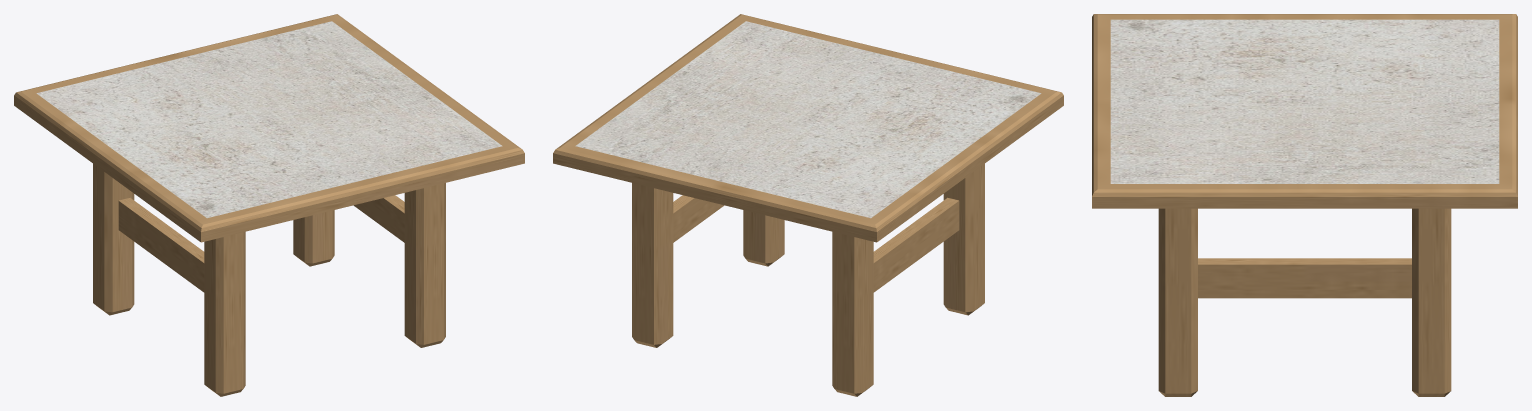
File: tablesquare.glb
3 views of the same model, side by side, from view 1: azimuth 30°, elevation 25°; view 2: azimuth 150°, elevation 25°; view 3: azimuth 270°, elevation 25° (orthographic). The views are drawn at different scales.
Visible parts, largest first — view 1: TABLEMAIN; view 2: TABLEMAIN; view 3: TABLEMAIN.
Part boxes in pixels (<box>): TABLEMAIN: <box>14,14,524,396</box>; TABLEMAIN: <box>553,14,1063,396</box>; TABLEMAIN: <box>1092,14,1517,396</box>.
Bounding box in the file's own units: 2.36 × 1.43 × 2.36.
Materials: 2 (2 with a texture image).
